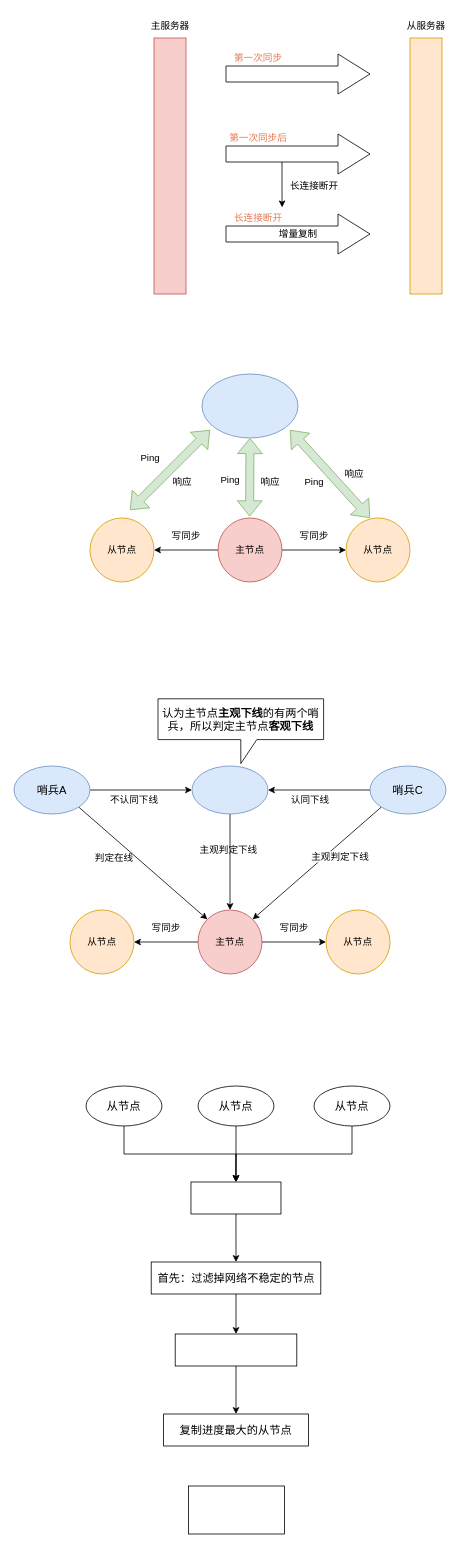
Some shapes in this 468 by 1548 pixel diagram are drawn without their labels. The shapes that lost their labels are listed below. From the top down, each one's box as (x1, y1, x2, y2) in pixels, then its label:
(225, 53, 370, 94): 全量复制
(225, 133, 370, 174): 保持长连接继续传播写命令
(201, 373, 298, 438): 哨兵
(191, 765, 268, 814): 哨兵B
(190, 1181, 281, 1214): 开始选举主节点
(174, 1333, 297, 1366): 选取优先级高的从节点
(188, 1485, 284, 1534): ID号最大的从节点
